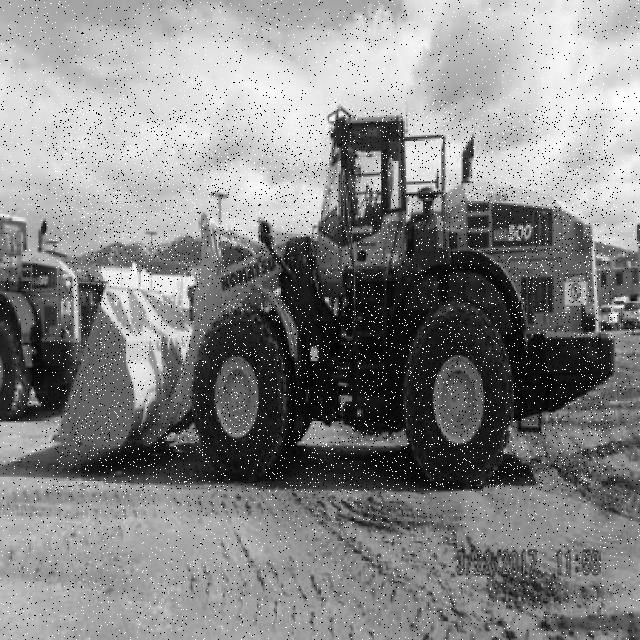Construction Equipment: (53, 108, 615, 492)
